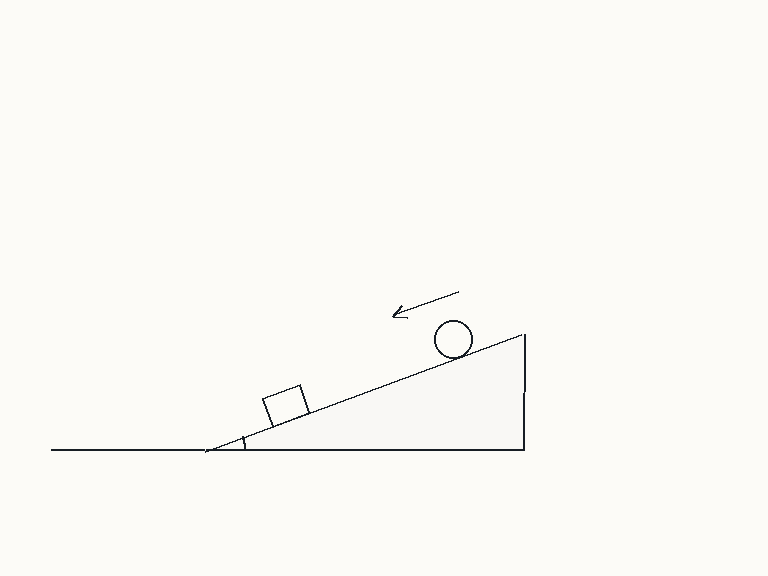ball: (432, 318, 474, 360)
block: (260, 383, 311, 428)
ramp: (203, 332, 525, 452)
